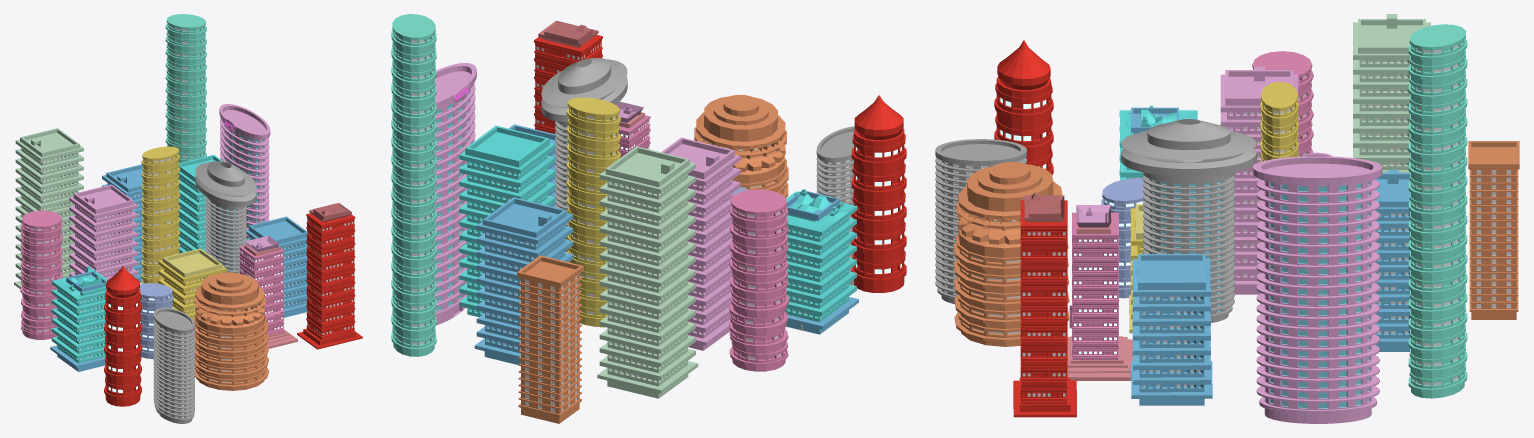
Rendered from AssetsEnvironmentbuildings_.fbx.
3 views of the same model, side by side, from view 1: azimuth 30°, elevation 25°; view 2: azimuth 150°, elevation 25°; view 3: azimuth 270°, elevation 25° (orthographic). The views are drawn at different scales.
Visible parts, largest first — view 1: Circle.004, Plane 22222222.002, Circle.003, Plane.006, Circle.005, Circle.001, Circle.008, Circle, Circle.007, Plane.001, Plane.024, Circle.006 (+18 smaller); view 2: Plane.006, Circle.003, Circle.001, Plane.037, Circle.005, Circle, Circle.006, Plane.024, Plane.010, Plane.001, Plane.022, Circle.004 (+14 smaller); view 3: Circle.006, Circle.003, Circle.008, Circle.004, Plane 22222222.002, Plane.037, Plane.017, Plane.006, Plane 22222222.001, Circle.005, Circle.007, Plane.001 (+16 smaller).
Boxes of the visible parts, <box> form: Circle.004: <box>194,272,268,390</box>; Plane 22222222.002: <box>306,213,355,340</box>; Circle.003: <box>165,14,206,162</box>; Plane.006: <box>15,139,83,283</box>; Circle.005: <box>104,266,141,406</box>; Circle.001: <box>20,210,62,339</box>; Circle.008: <box>195,161,256,273</box>; Circle: <box>141,146,180,283</box>; Circle.007: <box>153,307,194,423</box>; Plane.001: <box>69,196,137,279</box>; Plane.024: <box>51,266,107,363</box>; Circle.006: <box>219,104,270,244</box>; Plane.006: <box>599,162,695,386</box>; Circle.003: <box>391,14,436,356</box>; Circle.001: <box>729,189,788,371</box>; Plane.037: <box>517,255,583,423</box>; Circle.005: <box>851,95,906,292</box>; Circle: <box>566,97,620,327</box>; Circle.006: <box>435,63,476,325</box>; Plane.024: <box>785,189,856,322</box>; Plane.010: <box>476,213,573,353</box>; Plane.001: <box>688,154,740,338</box>; Plane.022: <box>459,143,555,316</box>; Circle.004: <box>694,94,788,198</box>; Circle.006: <box>1252,152,1382,423</box>; Circle.003: <box>1408,24,1467,398</box>; Circle.008: <box>1121,119,1256,322</box>; Circle.004: <box>953,161,1069,346</box>; Plane 22222222.002: <box>1020,200,1067,404</box>; Plane.037: <box>1468,141,1519,319</box>; Plane.017: <box>1132,259,1210,392</box>; Plane.006: <box>1353,22,1430,172</box>; Plane 22222222.001: <box>1069,212,1118,359</box>; Circle.005: <box>994,40,1053,174</box>; Circle.007: <box>935,139,1026,303</box>; Plane.001: <box>1220,74,1298,280</box>.
Bounding box in the file's own units: 2008 × 1867 × 2590.
